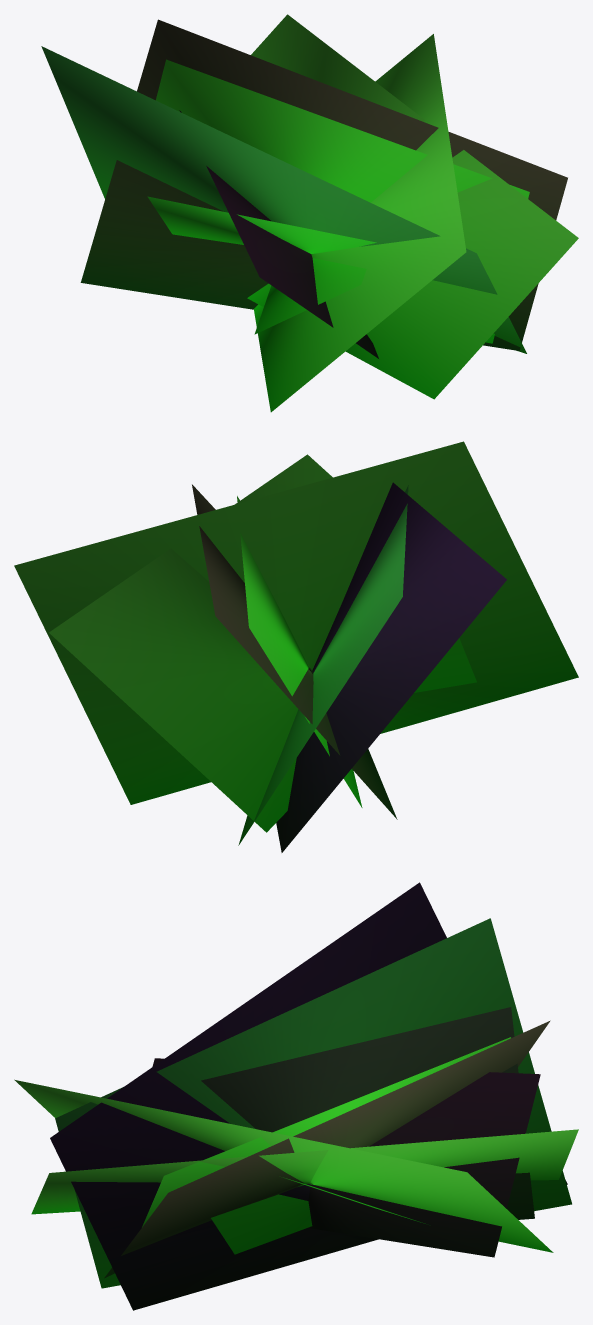
The model's file is grass.fbx.
3 renders of one model, top to bottom at view 1: azimuth 30°, elevation 25°; view 2: azimuth 150°, elevation 25°; view 3: azimuth 270°, elevation 25°, orthographic. The views are drawn at different scales.
Visible parts, largest first — view 1: Tree_1; view 2: Tree_1; view 3: Tree_1.
Part boxes in pixels (<box>): Tree_1: <box>41,14,578,412</box>; Tree_1: <box>14,441,578,852</box>; Tree_1: <box>14,882,578,1310</box>.
Size of what is drawn, in the model's own units: 76.27 by 39.42 by 85.24.
